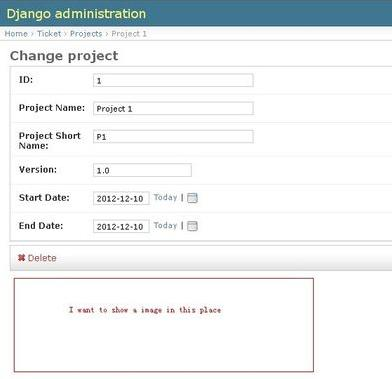field: (92, 73, 255, 88), (92, 129, 255, 144), (92, 101, 254, 116), (93, 162, 193, 178), (92, 190, 151, 206), (91, 218, 150, 234)
field_with_label: (17, 128, 258, 150), (18, 71, 257, 89), (17, 100, 256, 117), (20, 161, 195, 179), (20, 189, 153, 207), (18, 217, 151, 235)
